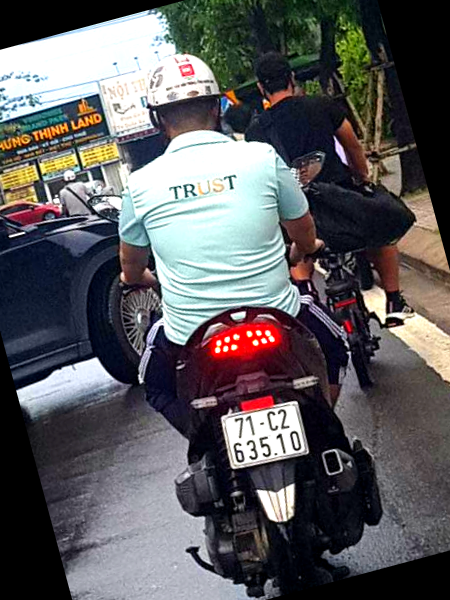number: (219, 400, 308, 469)
